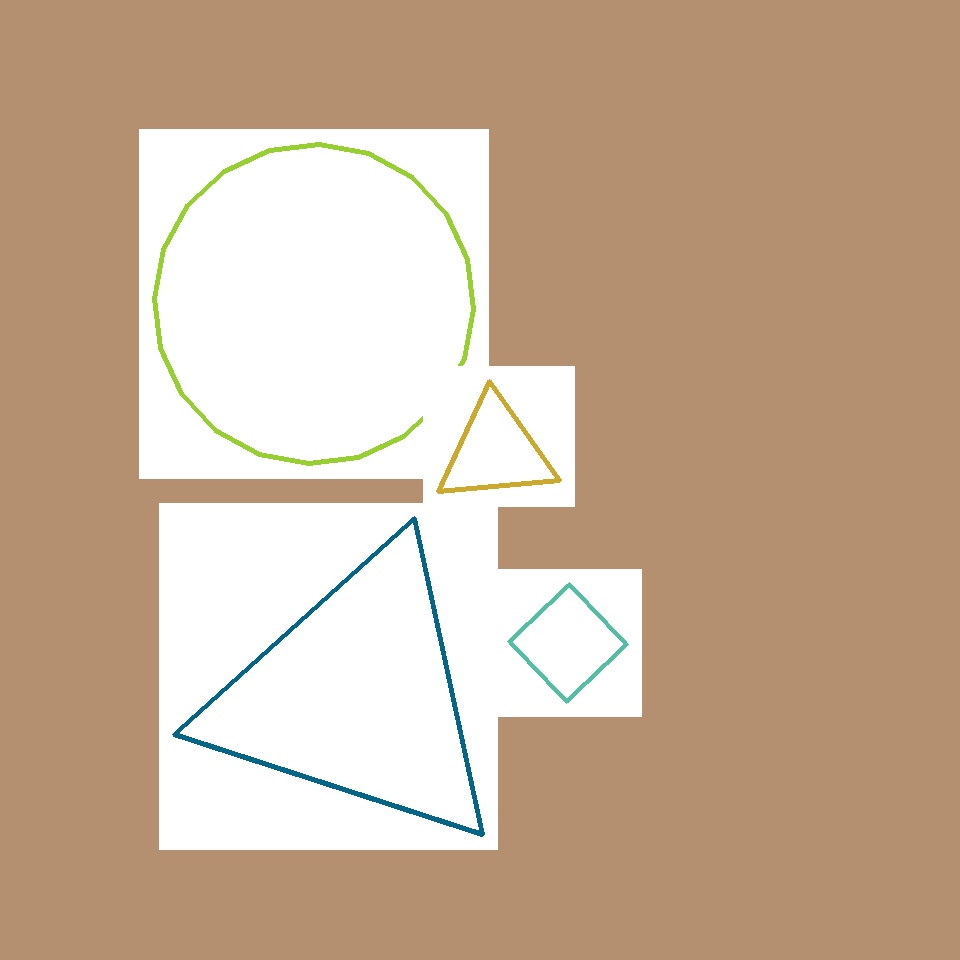circle: (203, 538, 511, 854), (436, 396, 556, 506)
square: (158, 364, 390, 596), (438, 188, 656, 404), (104, 206, 287, 388), (510, 584, 626, 702)
triangle: (262, 166, 590, 493), (154, 144, 474, 464), (406, 768, 554, 918)
